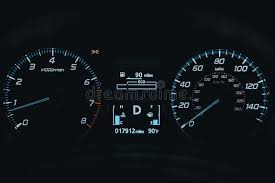Digital_Meter: (110, 126, 160, 135)
